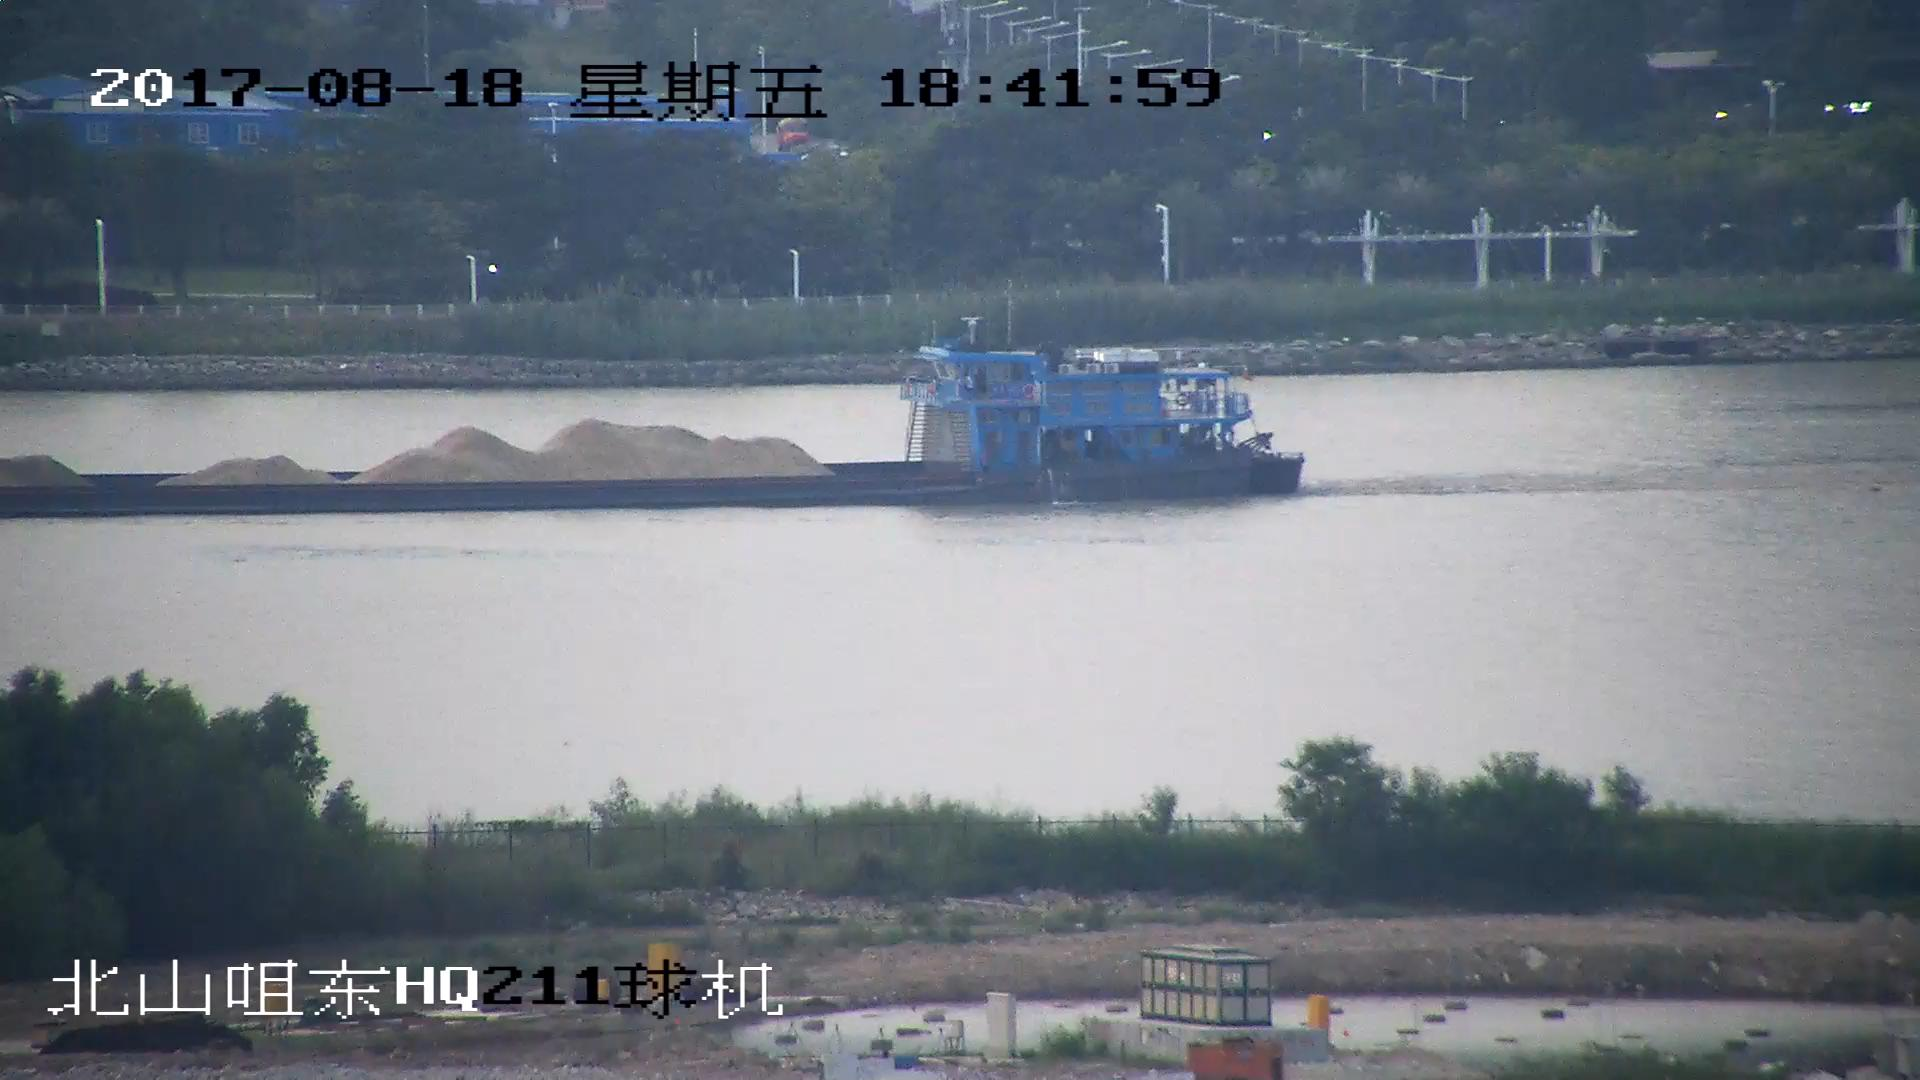ore carrier: (1, 318, 1306, 512)
